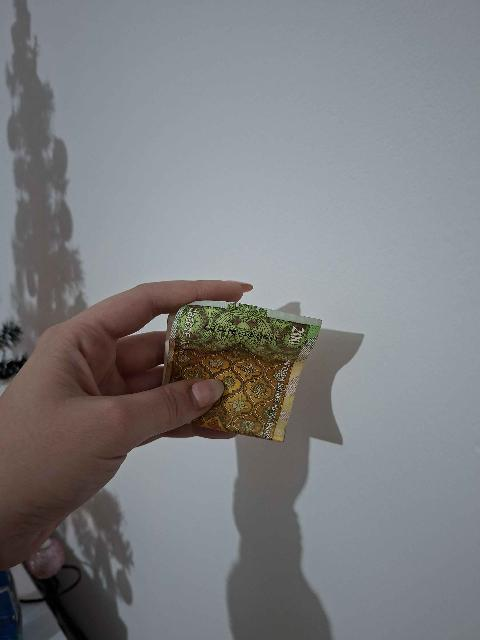note: (163, 301, 321, 441)
